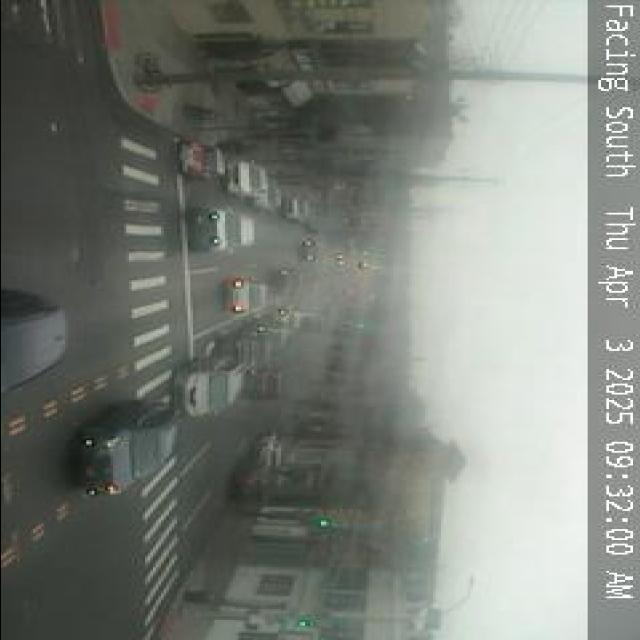parkedCars: (180, 126, 347, 226)
